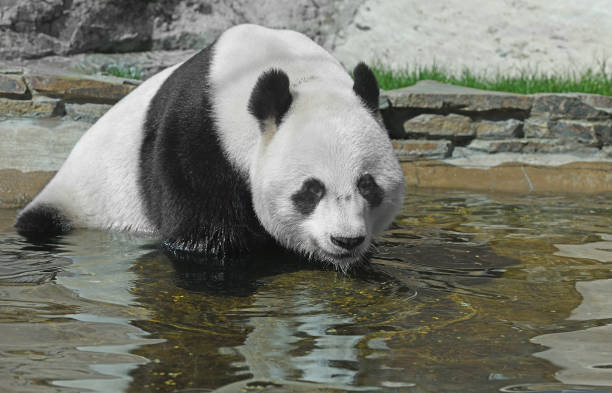panda: (224, 55, 442, 304)
